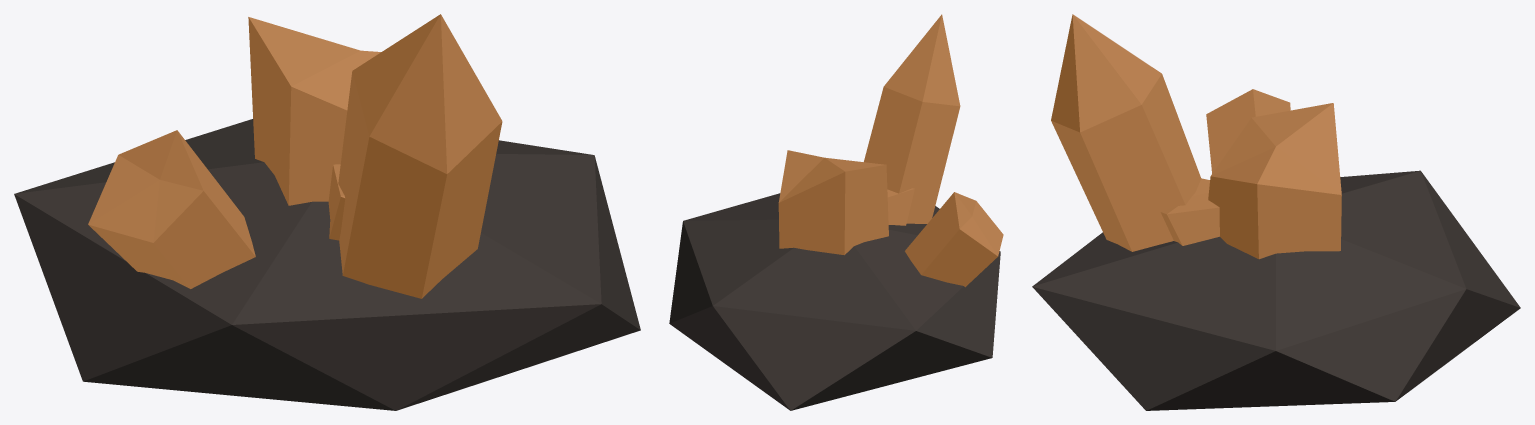
Rendered from wb_crystal_forearm_broken_lod1.glb.
The picture shows the model from 3 angles, left to right: view 1: azimuth 30°, elevation 25°; view 2: azimuth 150°, elevation 25°; view 3: azimuth 270°, elevation 25°; orthographic projection. The views are drawn at different scales.
Parts seen in each view (by area): view 1: wb_crystal_forearm_broken_lod1; view 2: wb_crystal_forearm_broken_lod1; view 3: wb_crystal_forearm_broken_lod1.
Boxes of the visible parts, x1,y1,x2,y2 form: wb_crystal_forearm_broken_lod1: (14, 14, 640, 410); wb_crystal_forearm_broken_lod1: (669, 14, 1003, 410); wb_crystal_forearm_broken_lod1: (1032, 14, 1520, 410).
Bounding box in the file's own units: 0.7614 × 0.6721 × 0.8464.
